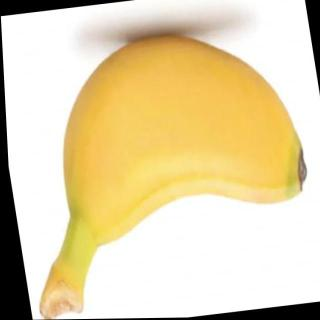banana: (1, 16, 320, 320)
